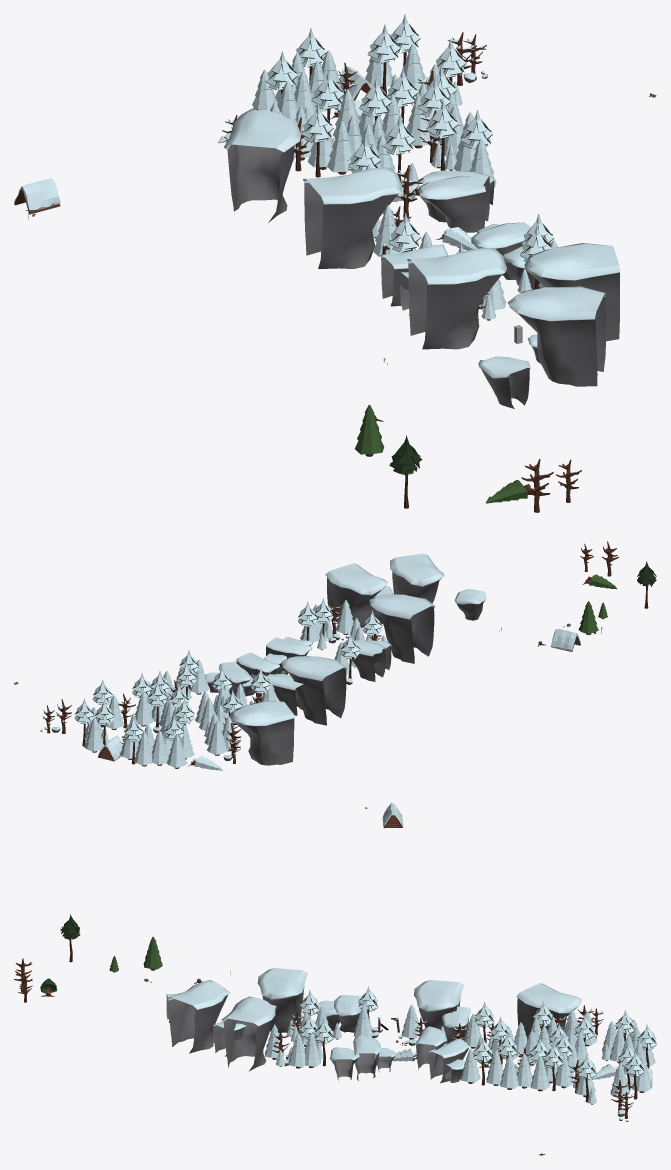
Rendered from Lvl4.fbx.
3 renders of one model, top to bottom at view 1: azimuth 30°, elevation 25°; view 2: azimuth 150°, elevation 25°; view 3: azimuth 270°, elevation 25°, orthographic. The views are drawn at different scales.
Parts seen in each view (by area): view 1: Cliffside_9, Cliffside_4, Cliffside_14, Cliffside_13, Cliffside_18, Cliffside_11, Cliffside_15, Cliffside_8, Cliffside_3, Cabin1, Tree, TreeWithSnow36 (+9 smaller); view 2: Cliffside_9, Cliffside_4, Cliffside_13, Cliffside_18, Cliffside_14, Cliffside_8, Cliffside_5, Cliffside_15, Cliffside_3, Cliffside_11, Cliffside_6, Cabin1 (+18 smaller); view 3: Cliffside_14, Cliffside_18, Cliffside_9, Cliffside_13, Cliffside_4, Cliffside_6, Cliffside_3, Cliffside_11, Cliffside_8, Cliffside_2, Cliffside_5.
Part boxes in pixels (x1=…): Cliffside_9: x1=407, y1=248, x2=506, y2=349; Cliffside_4: x1=303, y1=167, x2=402, y2=268; Cliffside_14: x1=507, y1=286, x2=606, y2=386; Cliffside_13: x1=224, y1=109, x2=301, y2=222; Cliffside_18: x1=524, y1=243, x2=620, y2=341; Cliffside_11: x1=417, y1=176, x2=485, y2=232; Cliffside_15: x1=478, y1=356, x2=530, y2=408; Cliffside_8: x1=380, y1=244, x2=448, y2=306; Cliffside_3: x1=471, y1=222, x2=530, y2=279; Cabin1: x1=14, y1=178, x2=60, y2=214; Tree: x1=355, y1=404, x2=384, y2=456; TreeWithSnow36: x1=327, y1=121, x2=354, y2=174; Cliffside_9: x1=369, y1=594, x2=435, y2=663; Cliffside_4: x1=281, y1=656, x2=347, y2=725; Cliffside_13: x1=230, y1=701, x2=294, y2=765; Cliffside_18: x1=325, y1=563, x2=387, y2=627; Cliffside_14: x1=390, y1=553, x2=444, y2=603; Cliffside_8: x1=342, y1=640, x2=386, y2=681; Cliffside_5: x1=265, y1=673, x2=305, y2=715; Cliffside_15: x1=455, y1=589, x2=486, y2=620; Cliffside_3: x1=265, y1=637, x2=312, y2=674; Cliffside_11: x1=236, y1=652, x2=279, y2=677; Cliffside_6: x1=218, y1=661, x2=251, y2=695; Cabin1: x1=550, y1=629, x2=580, y2=651; Cliffside_14: x1=167, y1=980, x2=230, y2=1053; Cliffside_18: x1=221, y1=996, x2=276, y2=1071; Cliffside_9: x1=257, y1=968, x2=307, y2=1032; Cliffside_13: x1=516, y1=983, x2=581, y2=1039; Cliffside_4: x1=414, y1=980, x2=463, y2=1043; Cliffside_6: x1=428, y1=1038, x2=470, y2=1083; Cliffside_3: x1=353, y1=1035, x2=381, y2=1080; Cliffside_11: x1=414, y1=1026, x2=445, y2=1070; Cliffside_8: x1=334, y1=995, x2=361, y2=1032; Cliffside_2: x1=330, y1=1047, x2=359, y2=1080; Cliffside_5: x1=442, y1=1006, x2=470, y2=1042.
Bounding box in the file's own units: 433 × 105 × 480.
